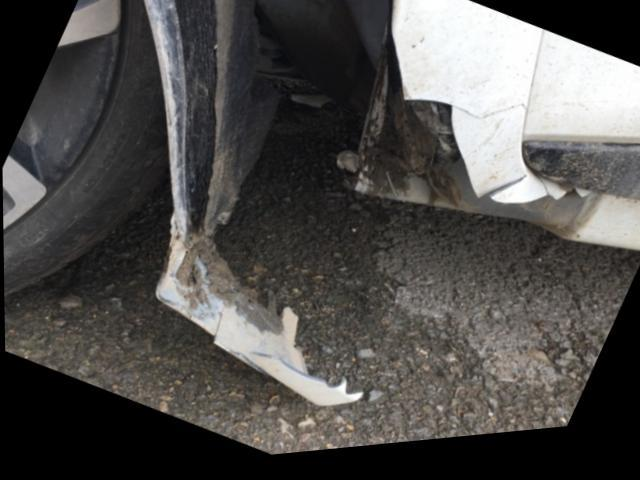crack: (449, 104, 537, 137), (471, 184, 529, 212)
no part: (217, 0, 588, 248)
